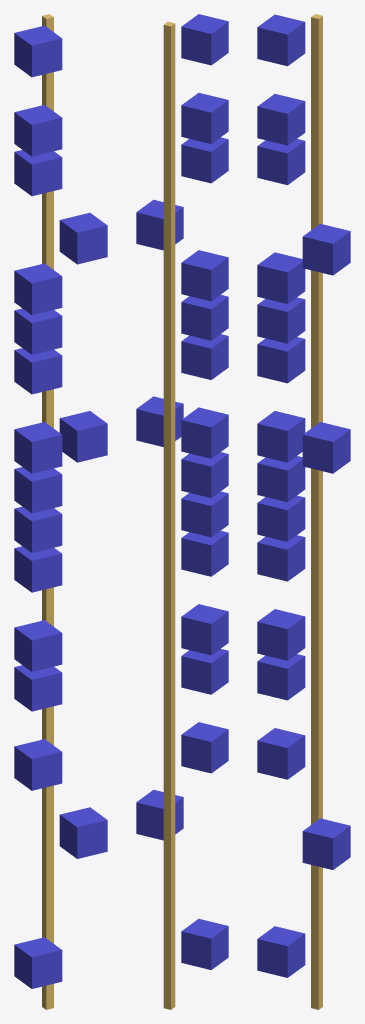
Rendered from ENOCH.gltf.
3 views of the same model, side by side, from view 1: azimuth 30°, elevation 25°; view 2: azimuth 150°, elevation 25°; view 3: azimuth 330°, elevation 25° (orthographic).
Visible parts, largest first — view 1: plane0.stroke1, E.low.dot1, N.low.dot2, C.low.dot7, C.low.dot1, H.low.dot4, E.low.dot3, N.low.dot4, H.low.dot7, O.low.dot1, O.low.dot4, N.low.dot7 (+6 smaller); view 2: plane0.stroke1, O.low.dot1, E.low.dot1, E.low.dot3, H.low.dot7, N.low.dot2, C.low.dot1, C.low.dot7, E.low.dot7, O.low.dot3, N.low.dot3, O.low.dot7 (+6 smaller); view 3: plane0.stroke1, E.low.dot3, C.low.dot1, H.low.dot4, E.low.dot1, C.low.dot7, O.low.dot4, N.low.dot4, H.low.dot7, N.low.dot2, O.low.dot1, O.low.dot7 (+6 smaller).
Part boxes in pixels (bbox=[...]): plane0.stroke1: bbox=[42, 14, 53, 1009]; E.low.dot1: bbox=[14, 25, 62, 77]; N.low.dot2: bbox=[14, 263, 62, 314]; C.low.dot7: bbox=[14, 739, 62, 790]; C.low.dot1: bbox=[14, 620, 62, 671]; H.low.dot4: bbox=[59, 807, 107, 858]; E.low.dot3: bbox=[14, 105, 62, 156]; N.low.dot4: bbox=[59, 212, 107, 264]; H.low.dot7: bbox=[14, 937, 62, 988]; O.low.dot1: bbox=[14, 422, 62, 473]; O.low.dot4: bbox=[59, 411, 107, 462]; N.low.dot7: bbox=[14, 348, 62, 394]; plane0.stroke1: bbox=[163, 21, 175, 1009]; O.low.dot1: bbox=[181, 407, 228, 458]; E.low.dot1: bbox=[181, 14, 228, 65]; E.low.dot3: bbox=[181, 92, 228, 143]; H.low.dot7: bbox=[181, 919, 228, 969]; N.low.dot2: bbox=[181, 250, 228, 301]; C.low.dot1: bbox=[181, 604, 228, 655]; C.low.dot7: bbox=[181, 722, 228, 773]; E.low.dot7: bbox=[181, 137, 228, 183]; O.low.dot3: bbox=[181, 491, 228, 537]; N.low.dot3: bbox=[181, 295, 228, 340]; O.low.dot7: bbox=[181, 531, 228, 576]; plane0.stroke1: bbox=[311, 14, 322, 1009]; E.low.dot3: bbox=[257, 94, 305, 145]; C.low.dot1: bbox=[257, 609, 305, 660]; H.low.dot4: bbox=[302, 818, 350, 869]; E.low.dot1: bbox=[257, 14, 305, 66]; C.low.dot7: bbox=[257, 728, 305, 779]; O.low.dot4: bbox=[302, 422, 350, 473]; N.low.dot4: bbox=[302, 224, 350, 275]; H.low.dot7: bbox=[257, 926, 305, 977]; N.low.dot2: bbox=[257, 252, 305, 303]; O.low.dot1: bbox=[257, 411, 305, 462]; O.low.dot7: bbox=[257, 535, 305, 581].
Size of the model in its own units: 2 by 25 by 1.1.
